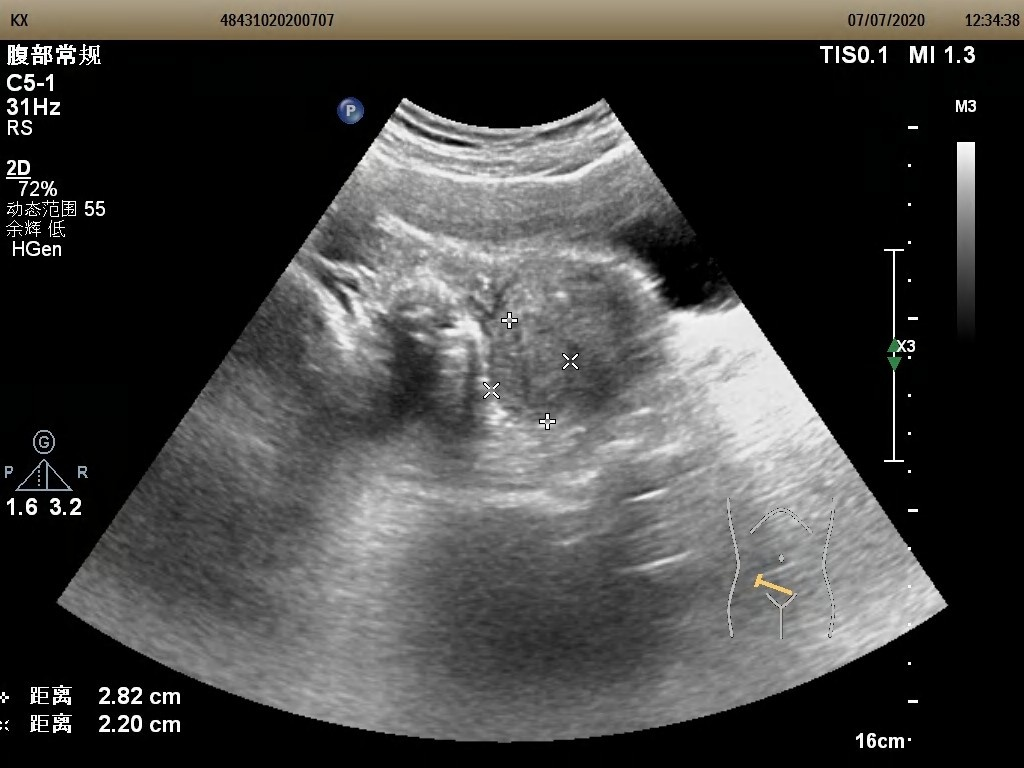肌瘤: (489, 316, 575, 418)
